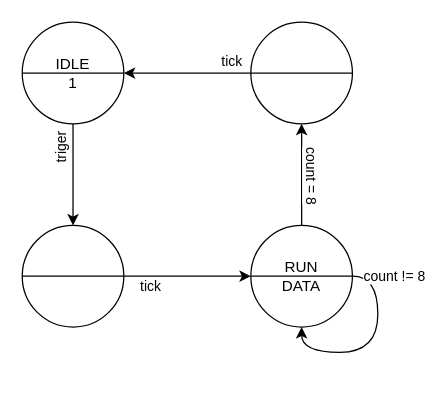
Some shapes in this 447 by 396 pixel diagram are drawn without their labels. Each missing label, with the box of its shape:
START 0: (21, 224, 124, 327)
STOP 1: (250, 21, 352, 124)
